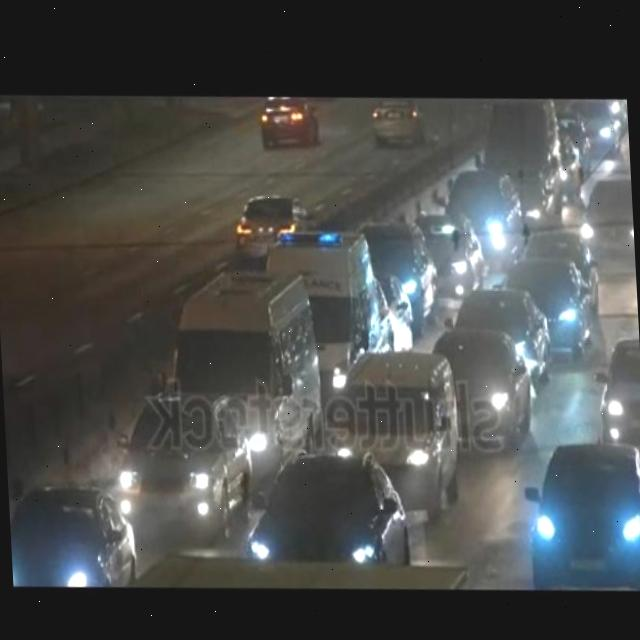emergency: (264, 216, 382, 358)
